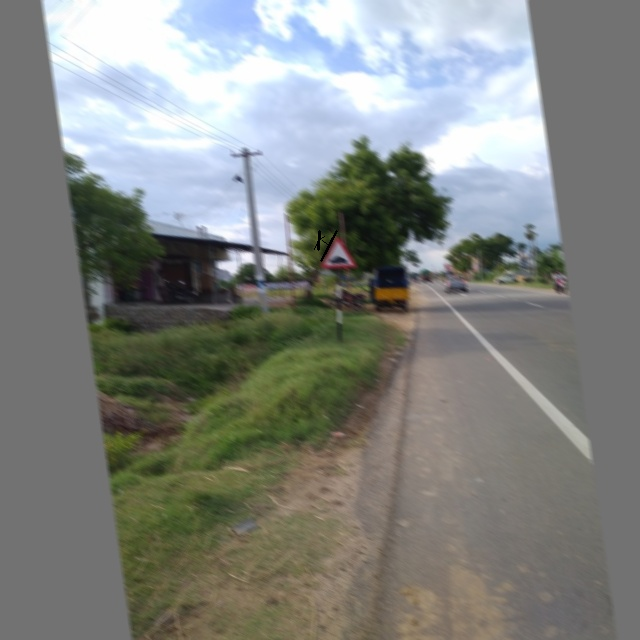Hump_or_Rough_Road: (314, 231, 355, 274)
